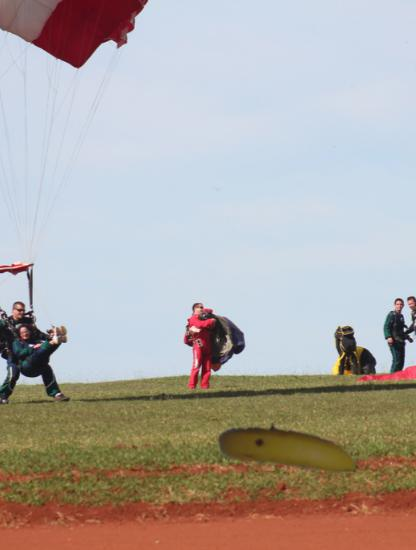Banana: (218, 377, 361, 520)
